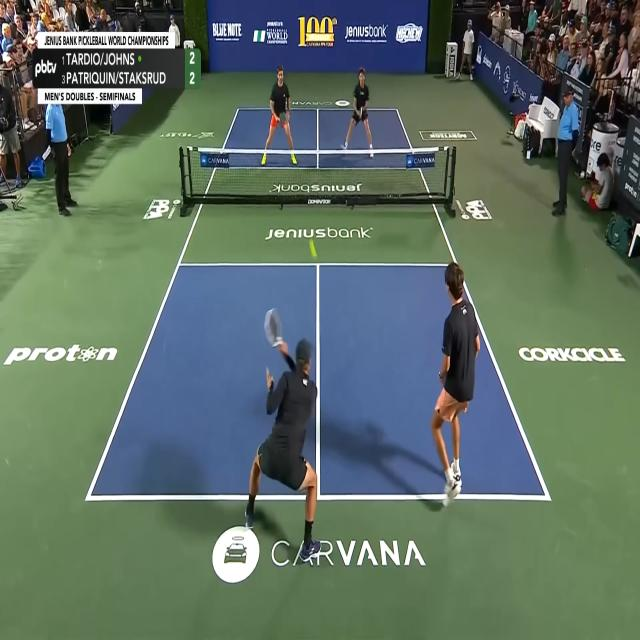ball: (309, 237, 317, 257)
